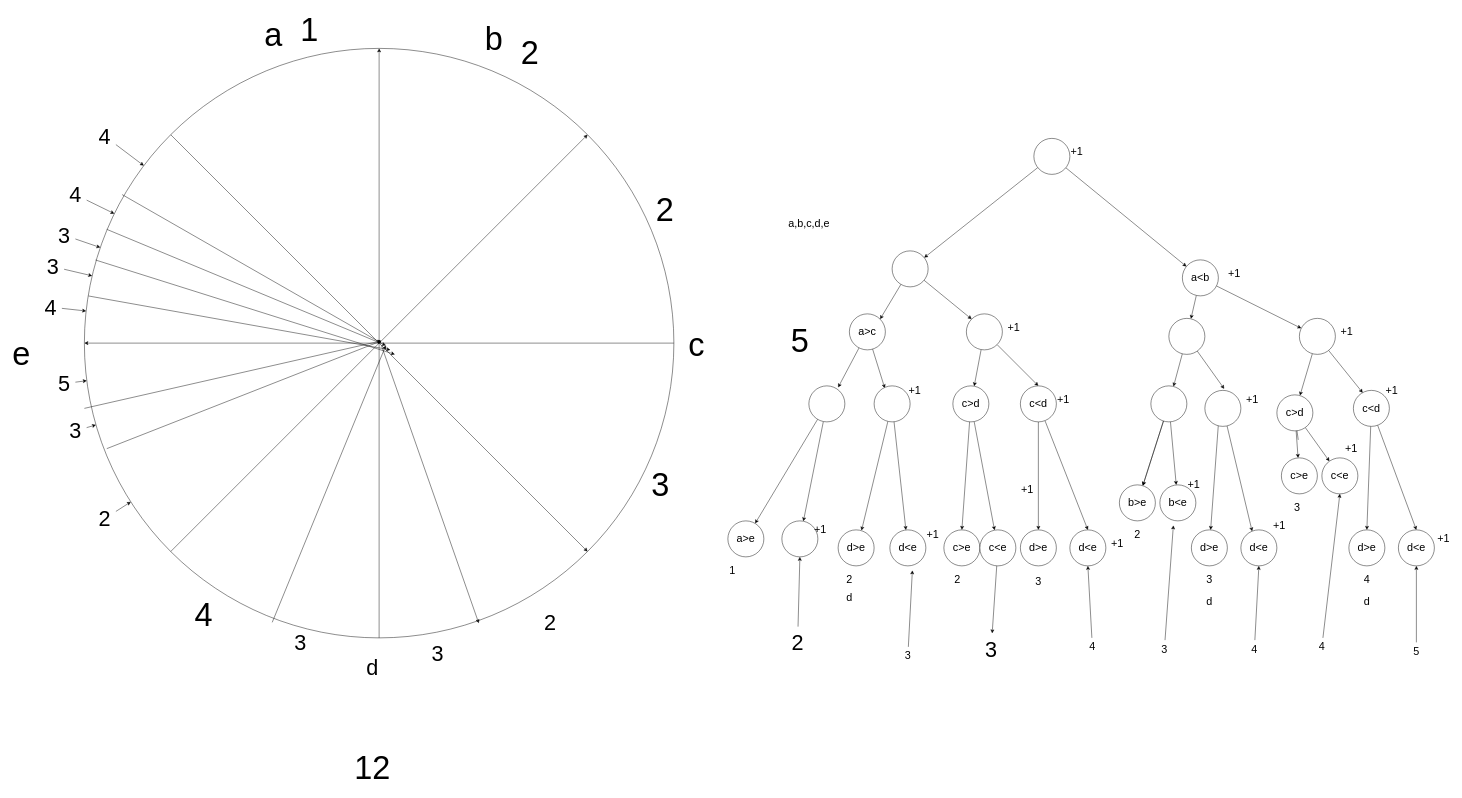
Some shapes in this 1462 by 798 pixel diagram are drawn without their labels. The shapes that lost their labels are listed below. From the top down, each one's centre as x and y in pixels, then its label:
At pixel 1051 156: "start".
At pixel 910 268: "a>b".
At pixel 984 331: "a<c".
At pixel 1186 336: "b>c".
At pixel 1317 336: "b<c".
At pixel 826 403: "a>d".
At pixel 892 403: "a<d".
At pixel 1168 403: "b>d".
At pixel 1222 408: "b<d".
At pixel 799 538: "a<e".
